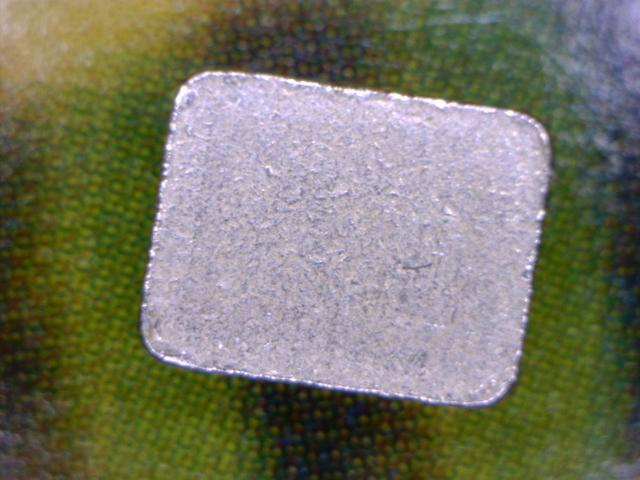ok: (136, 64, 557, 412)
